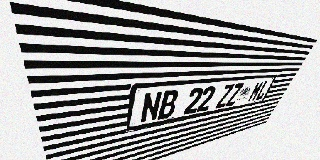2: (183, 87, 205, 115), (196, 86, 217, 112)
B: (157, 89, 180, 120)
L: (254, 80, 272, 101)
M: (247, 81, 265, 102)
N: (140, 91, 163, 123)
Z: (215, 84, 235, 108), (225, 83, 244, 106)
